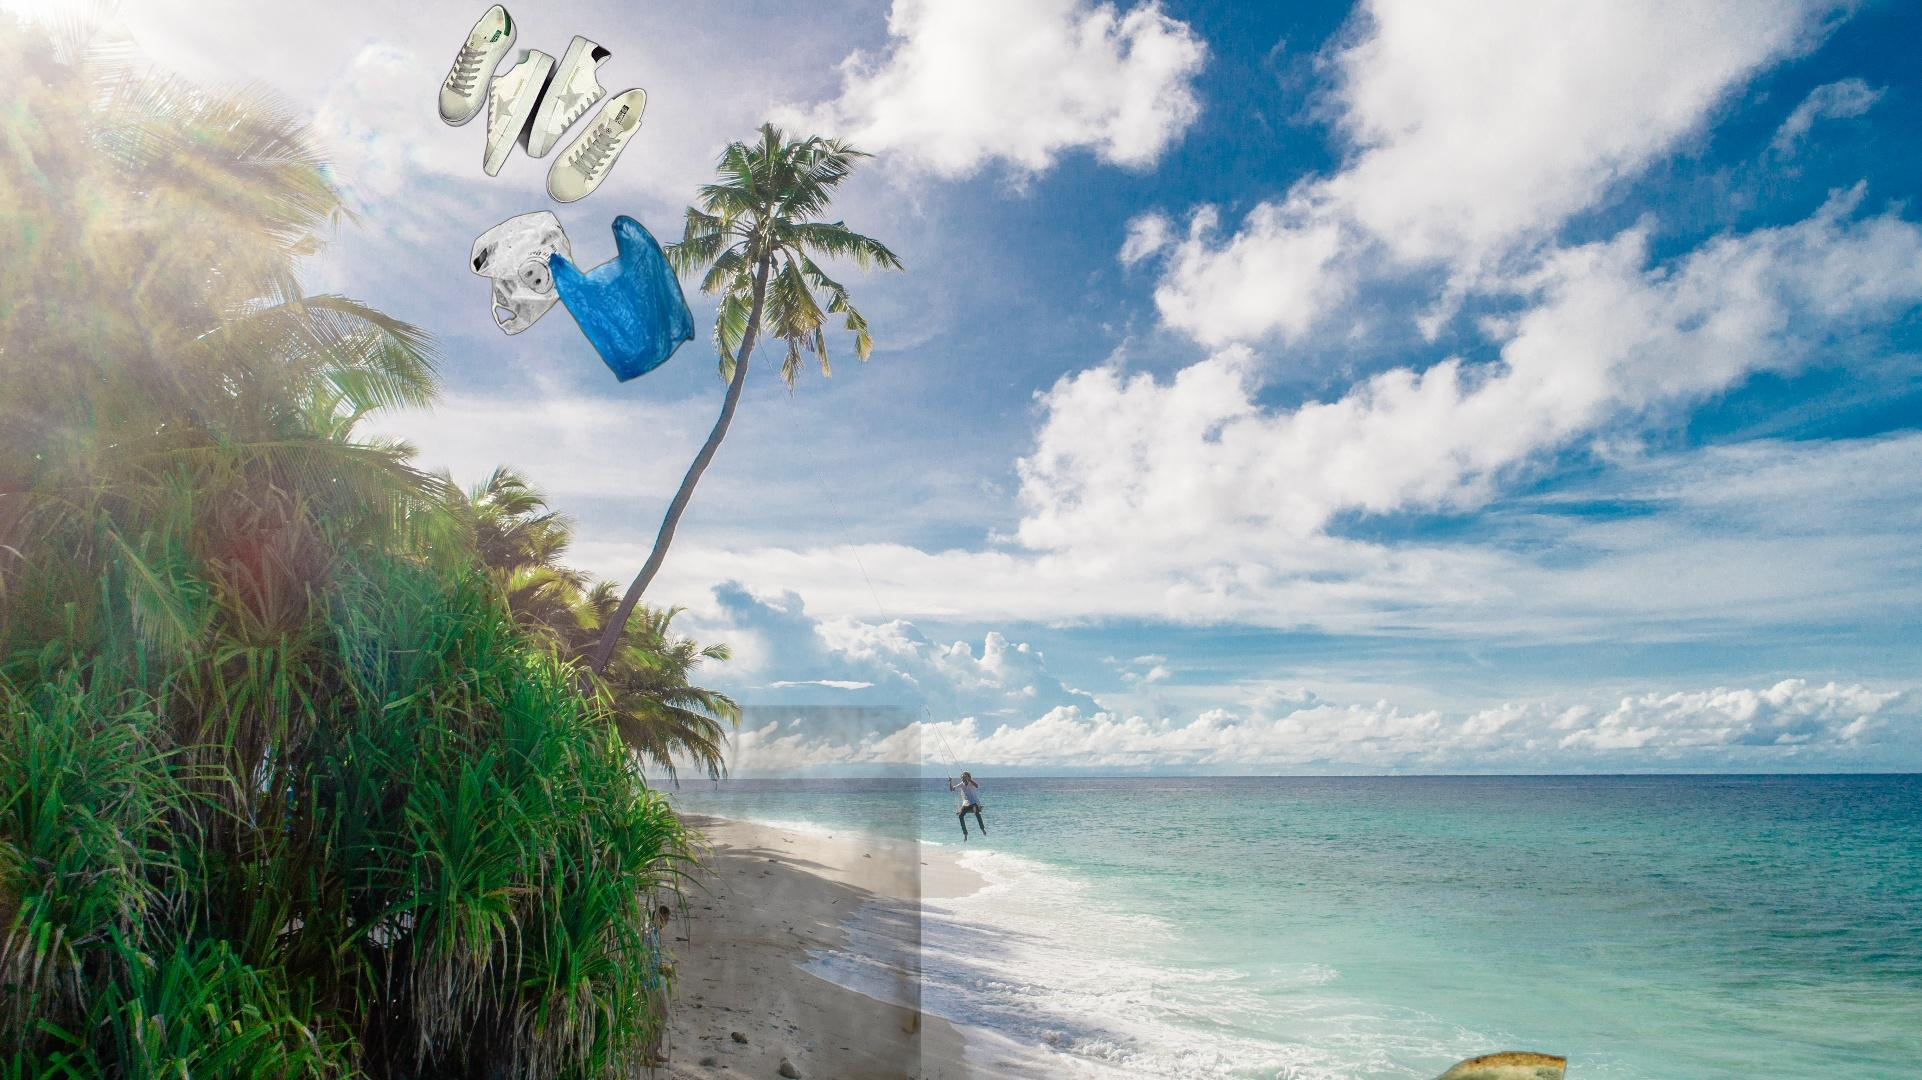biological: (1408, 1046, 1622, 1080)
plastic-bag: (467, 209, 698, 386)
shoes: (436, 3, 649, 206)
trashbox-cardboard: (409, 705, 921, 1080)
